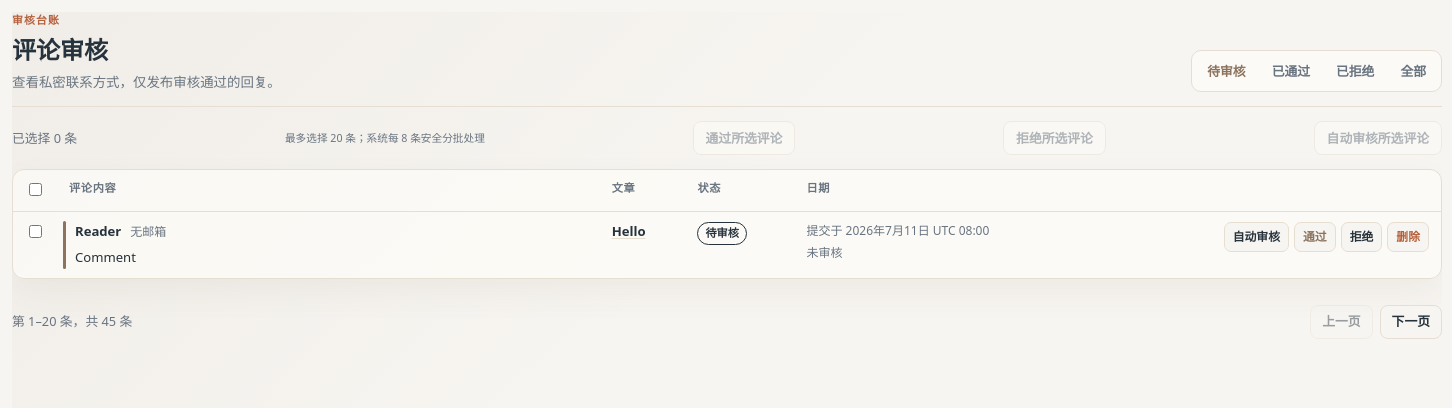
CommentModerationView › surfaces action errors with an action-specific fallback
The image size is (1452, 408).
Click the button with test id "comment-reject-comment-1".
click(1362, 237)  # box [1341,222,1382,252]
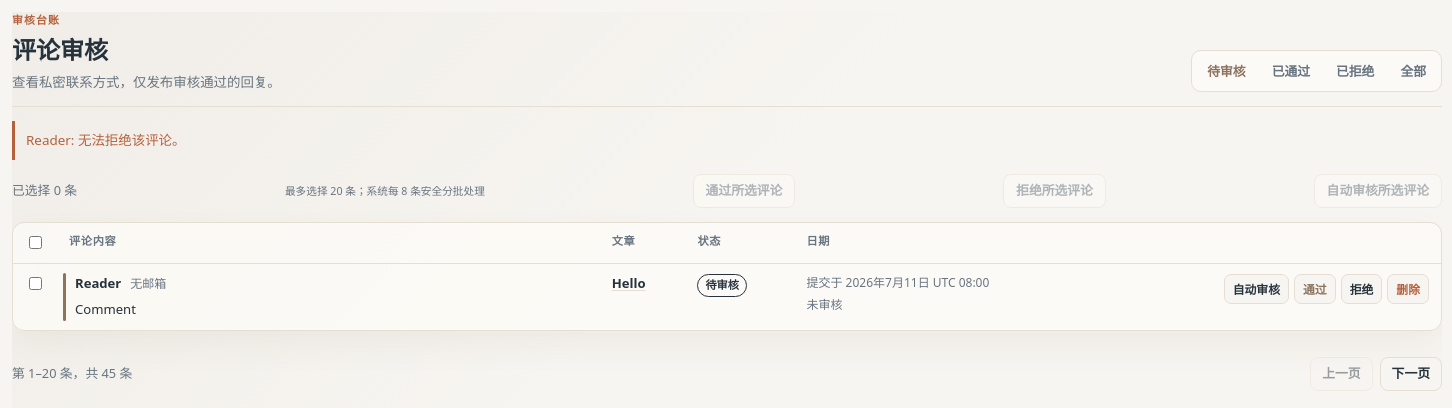
Check: the message with test id "comment-action-error" shows "无法拒绝该评论。", box [26,132,186,150]
